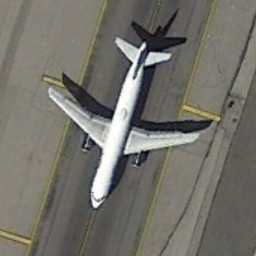Airplane: (44, 31, 205, 215)
